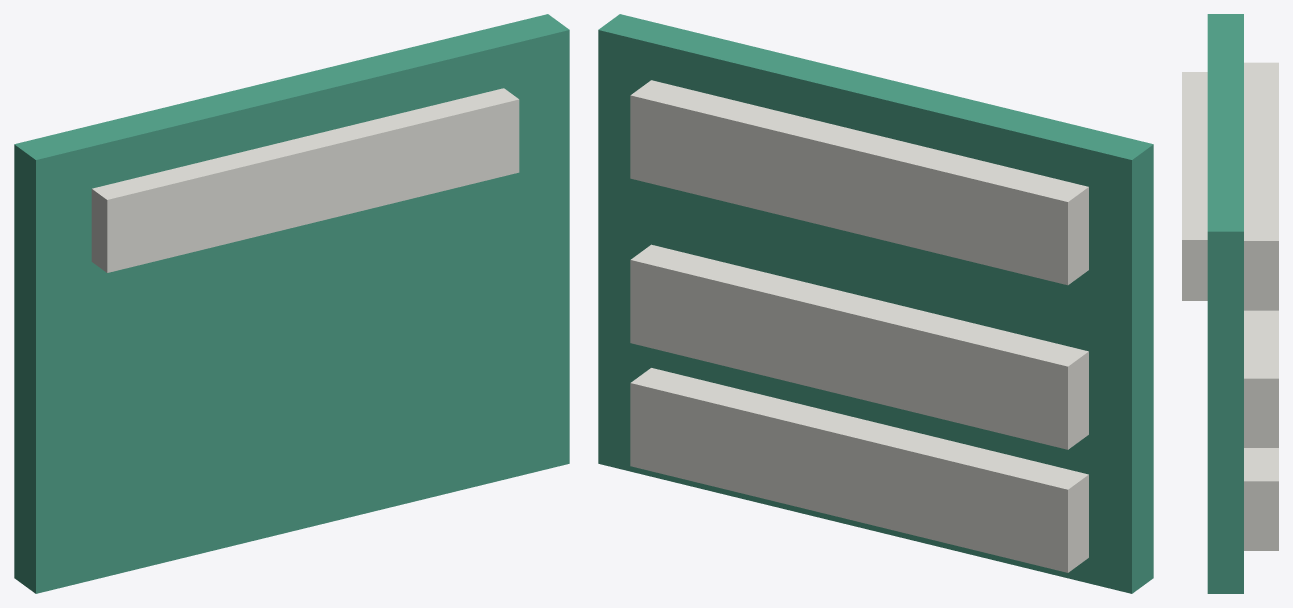
The model's file is Option_B_Router_V3.glb.
3 views of the same model, side by side, from view 1: azimuth 30°, elevation 25°; view 2: azimuth 150°, elevation 25°; view 3: azimuth 270°, elevation 25° (orthographic). The views are drawn at different scales.
Visible parts, largest first — view 1: board, conn; view 2: conn, board; view 3: conn, board.
Boxes of the visible parts, x1=… form: board: x1=14, y1=14, x2=569, y2=593; conn: x1=91, y1=88, x2=519, y2=272; conn: x1=630, y1=80, x2=1088, y2=572; board: x1=598, y1=14, x2=1153, y2=593; conn: x1=1182, y1=62, x2=1278, y2=550; board: x1=1207, y1=14, x2=1243, y2=593.
Size of the model in its own units: 22.69 by 17.62 by 4.27.
